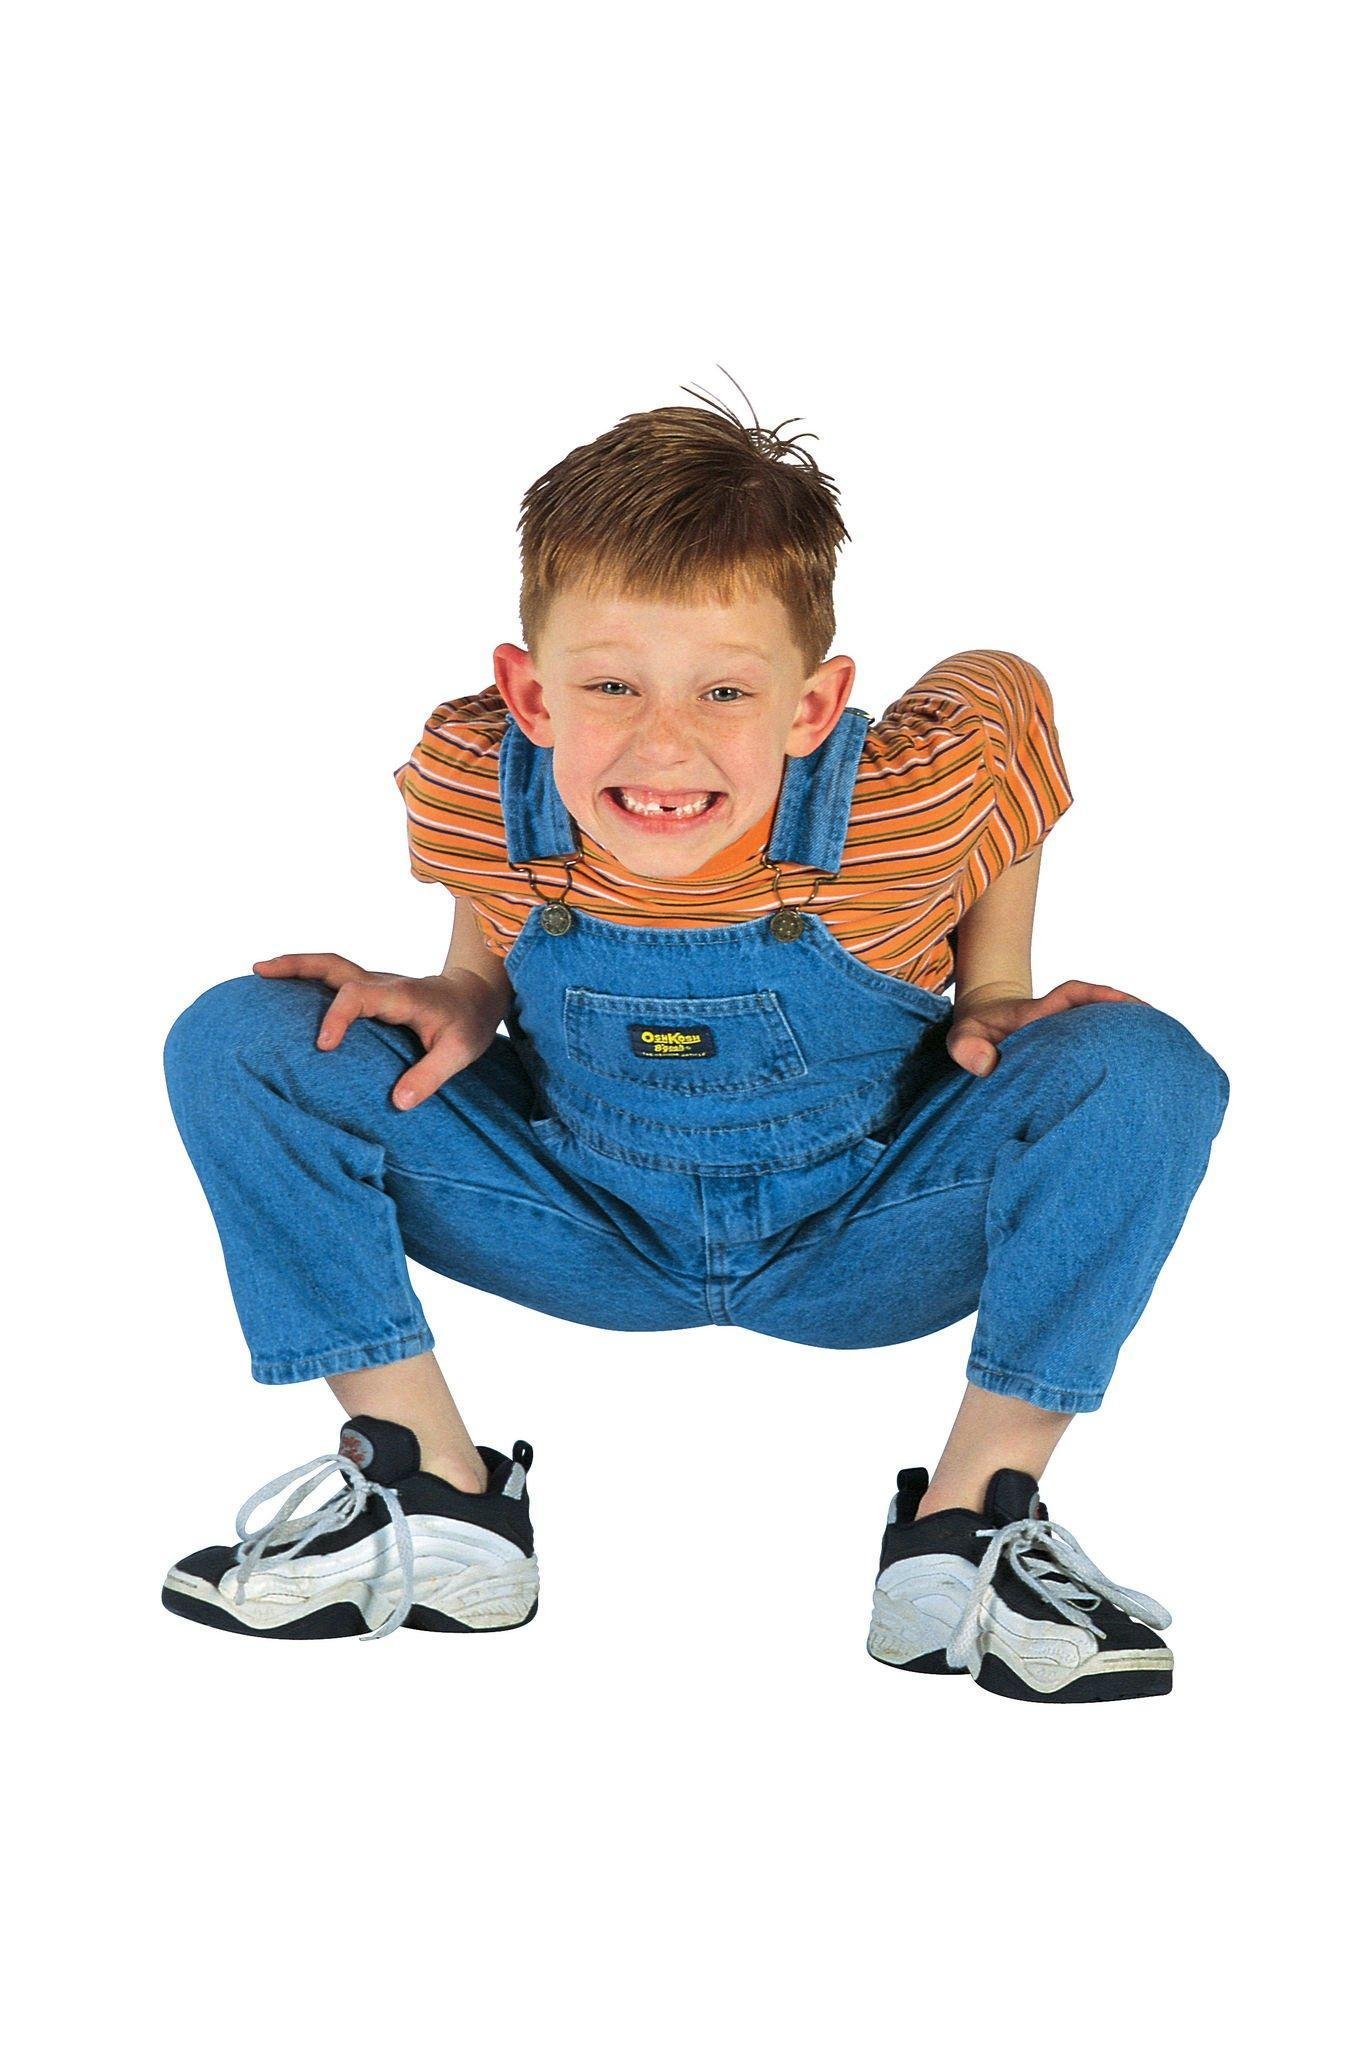Healthy: (478, 501, 836, 892)
